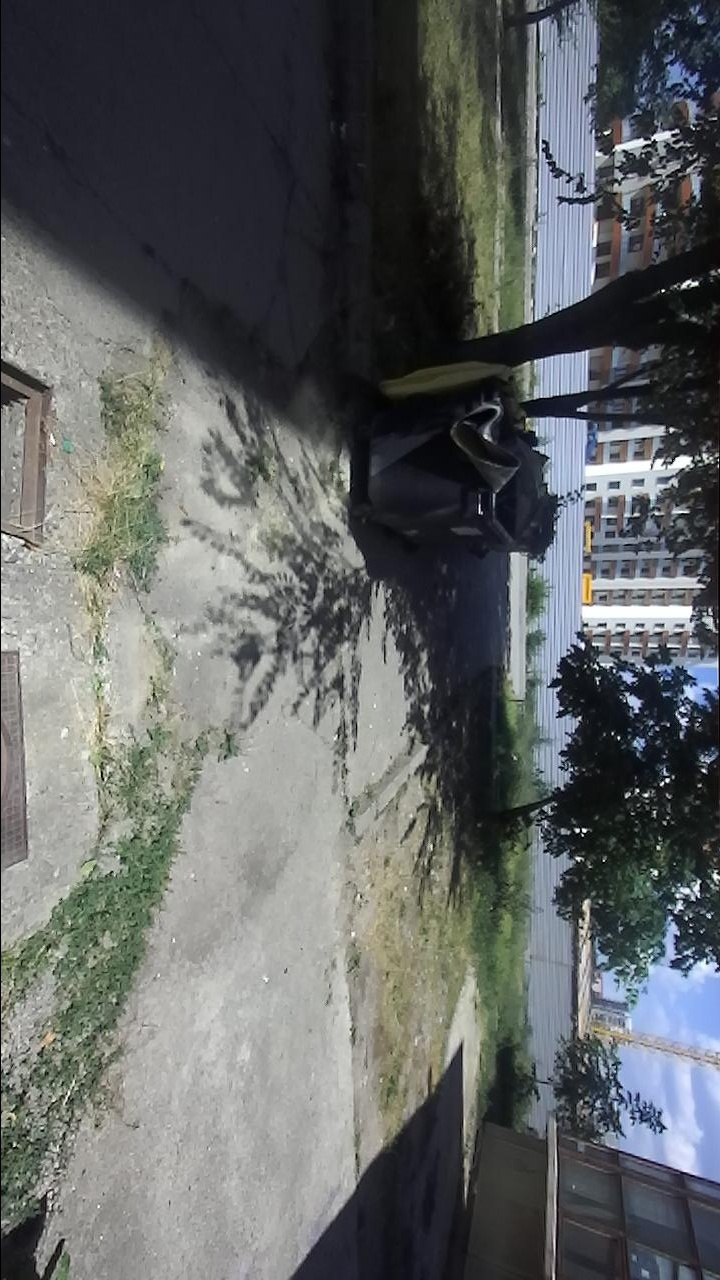drain: (0, 346, 55, 555)
